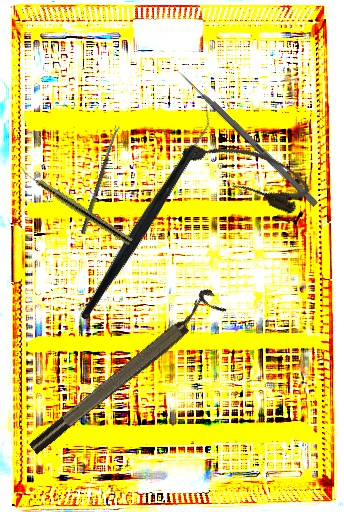Cannula: (176, 123, 316, 218)
Chopper: (23, 101, 269, 322)
Fixation Ring: (19, 285, 228, 459)
Handpiece: (15, 164, 134, 246)
Pusher: (171, 64, 319, 207)
Surgical Spoon: (80, 124, 121, 235)
